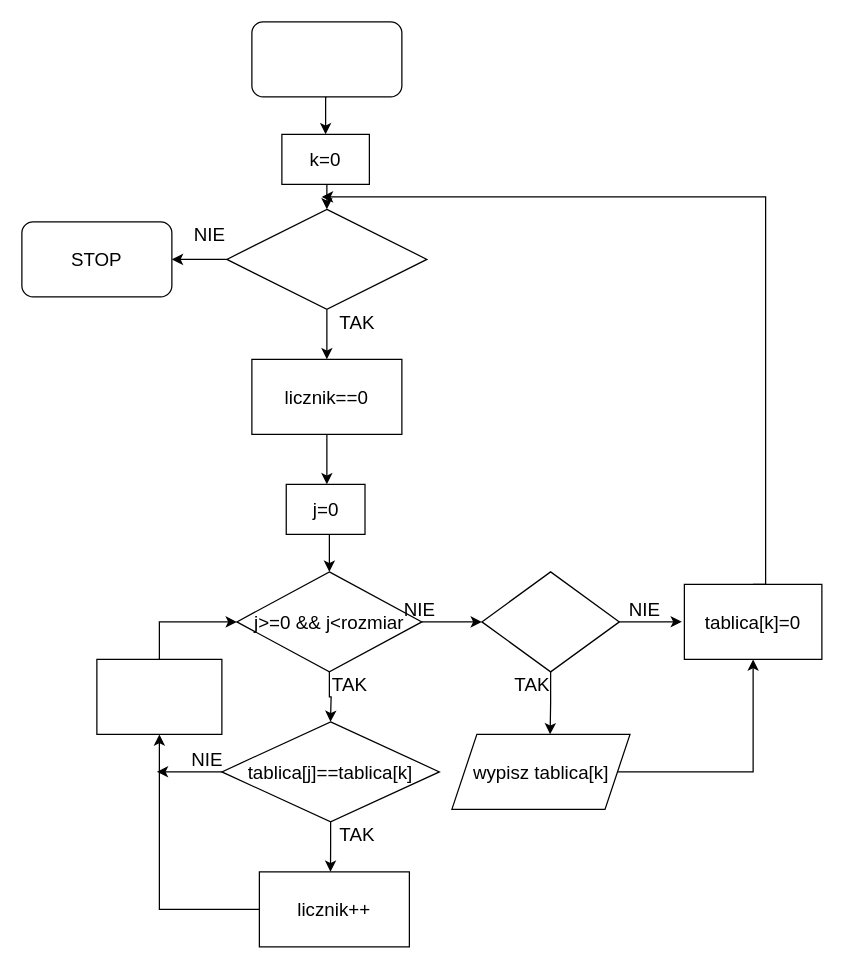
The diagram is 844 pixels wide and 969 high, and some of its shapes have lost their labels. The shapes that lost their labels are listed below. From the top down, each one's centre as x and y in pixels, then its label:
At (326,59): "START".
At (326,258): "k>=0 && k<rozmiar".
At (550,621): "licznik==2".
At (159,696): "j++".
